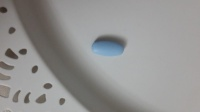Apranax: (90, 39, 126, 57)
